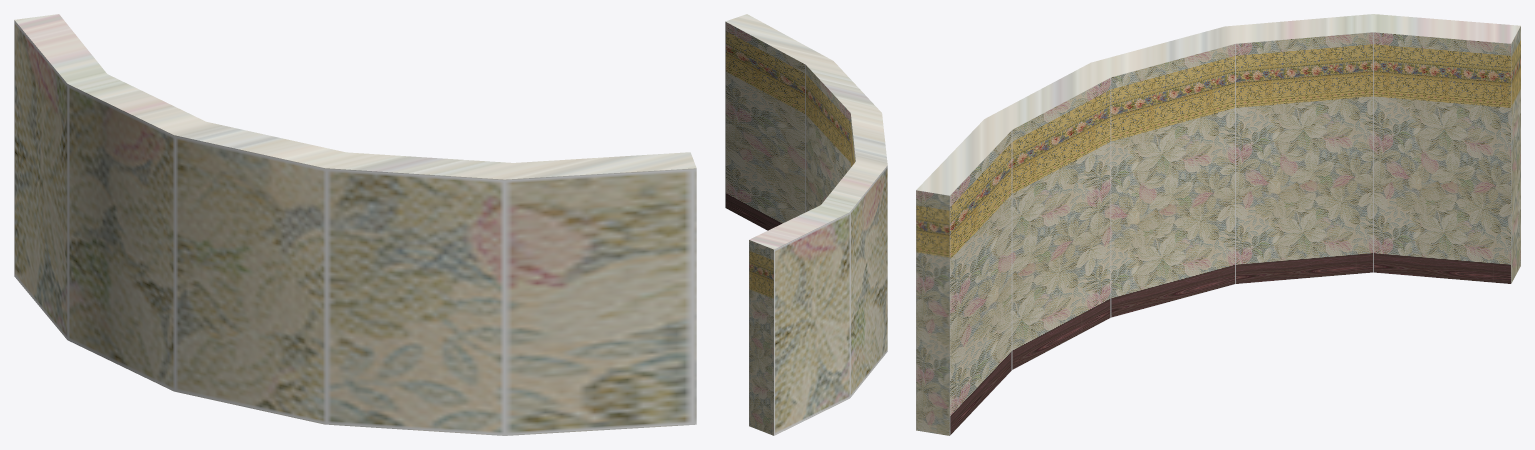
The model's file is wallSmall.fbx.
3 renders of one model, left to right at view 1: azimuth 30°, elevation 25°; view 2: azimuth 150°, elevation 25°; view 3: azimuth 270°, elevation 25°, orthographic. The views are drawn at different scales.
Visible parts, largest first — view 1: polySurface1; view 2: polySurface1; view 3: polySurface1.
Part boxes in pixels (bbox=[...]): polySurface1: bbox=[14, 14, 696, 435]; polySurface1: bbox=[725, 14, 887, 435]; polySurface1: bbox=[916, 14, 1520, 435].
Size of the model in its own units: 9 by 5.55 by 12.67.
